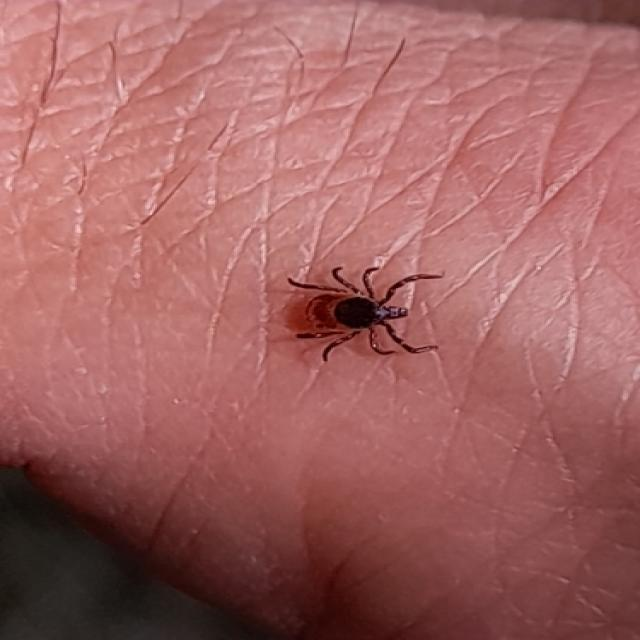Ixodes Ricinus-F-Fed: (287, 257, 442, 362)
